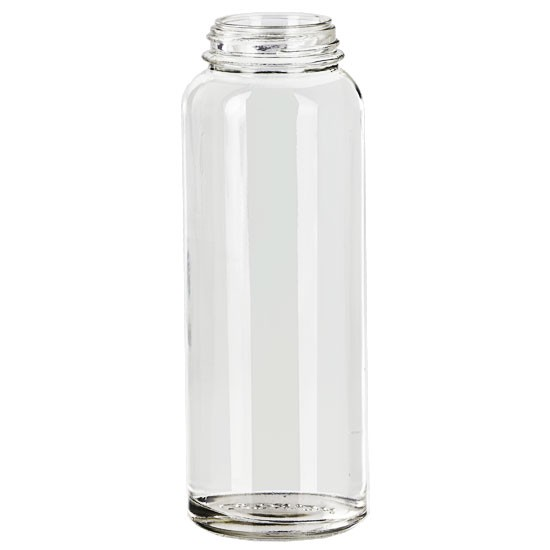Rec_Glass: (124, 2, 397, 546)
